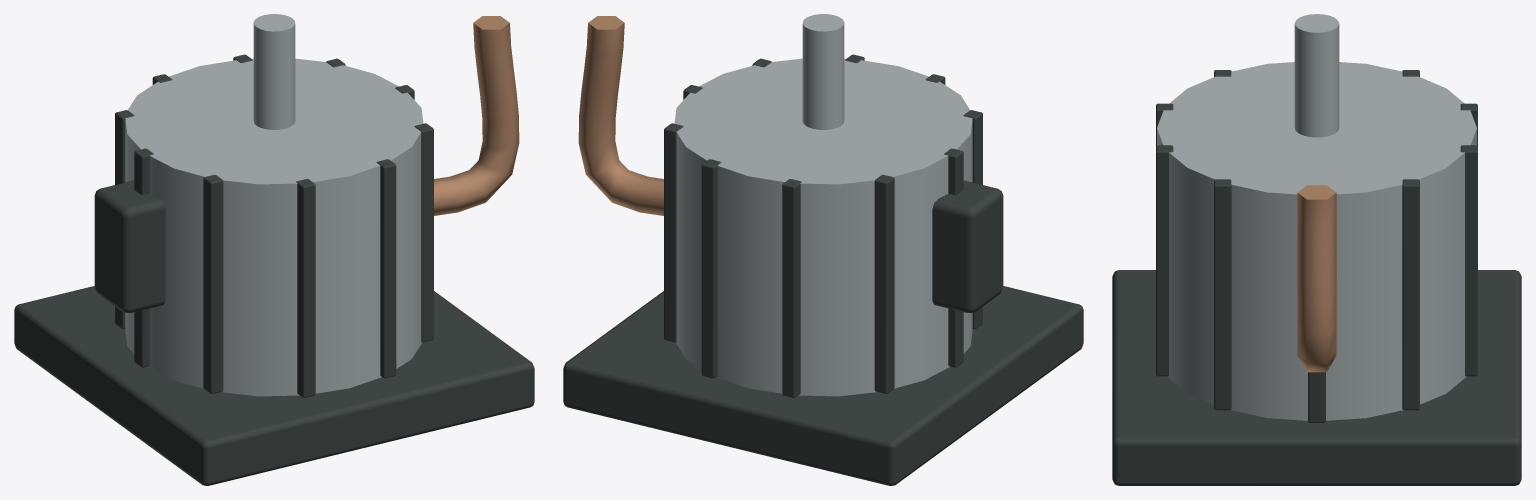
File: salvage-and-repair-workshop-compressor-unit-9cb878df__25479.glb
3 renders of one model, left to right at view 1: azimuth 30°, elevation 25°; view 2: azimuth 150°, elevation 25°; view 3: azimuth 270°, elevation 25°, orthographic. The views are drawn at different scales.
Visible parts, largest first — view 1: compressor-unit; view 2: compressor-unit; view 3: compressor-unit.
Boxes of the visible parts, x1,y1,x2,y2 form: compressor-unit: (14,14,534,485); compressor-unit: (563,14,1083,485); compressor-unit: (1112,14,1521,485).
Size of the model in its own units: 0.5619 by 0.47 by 0.46.
